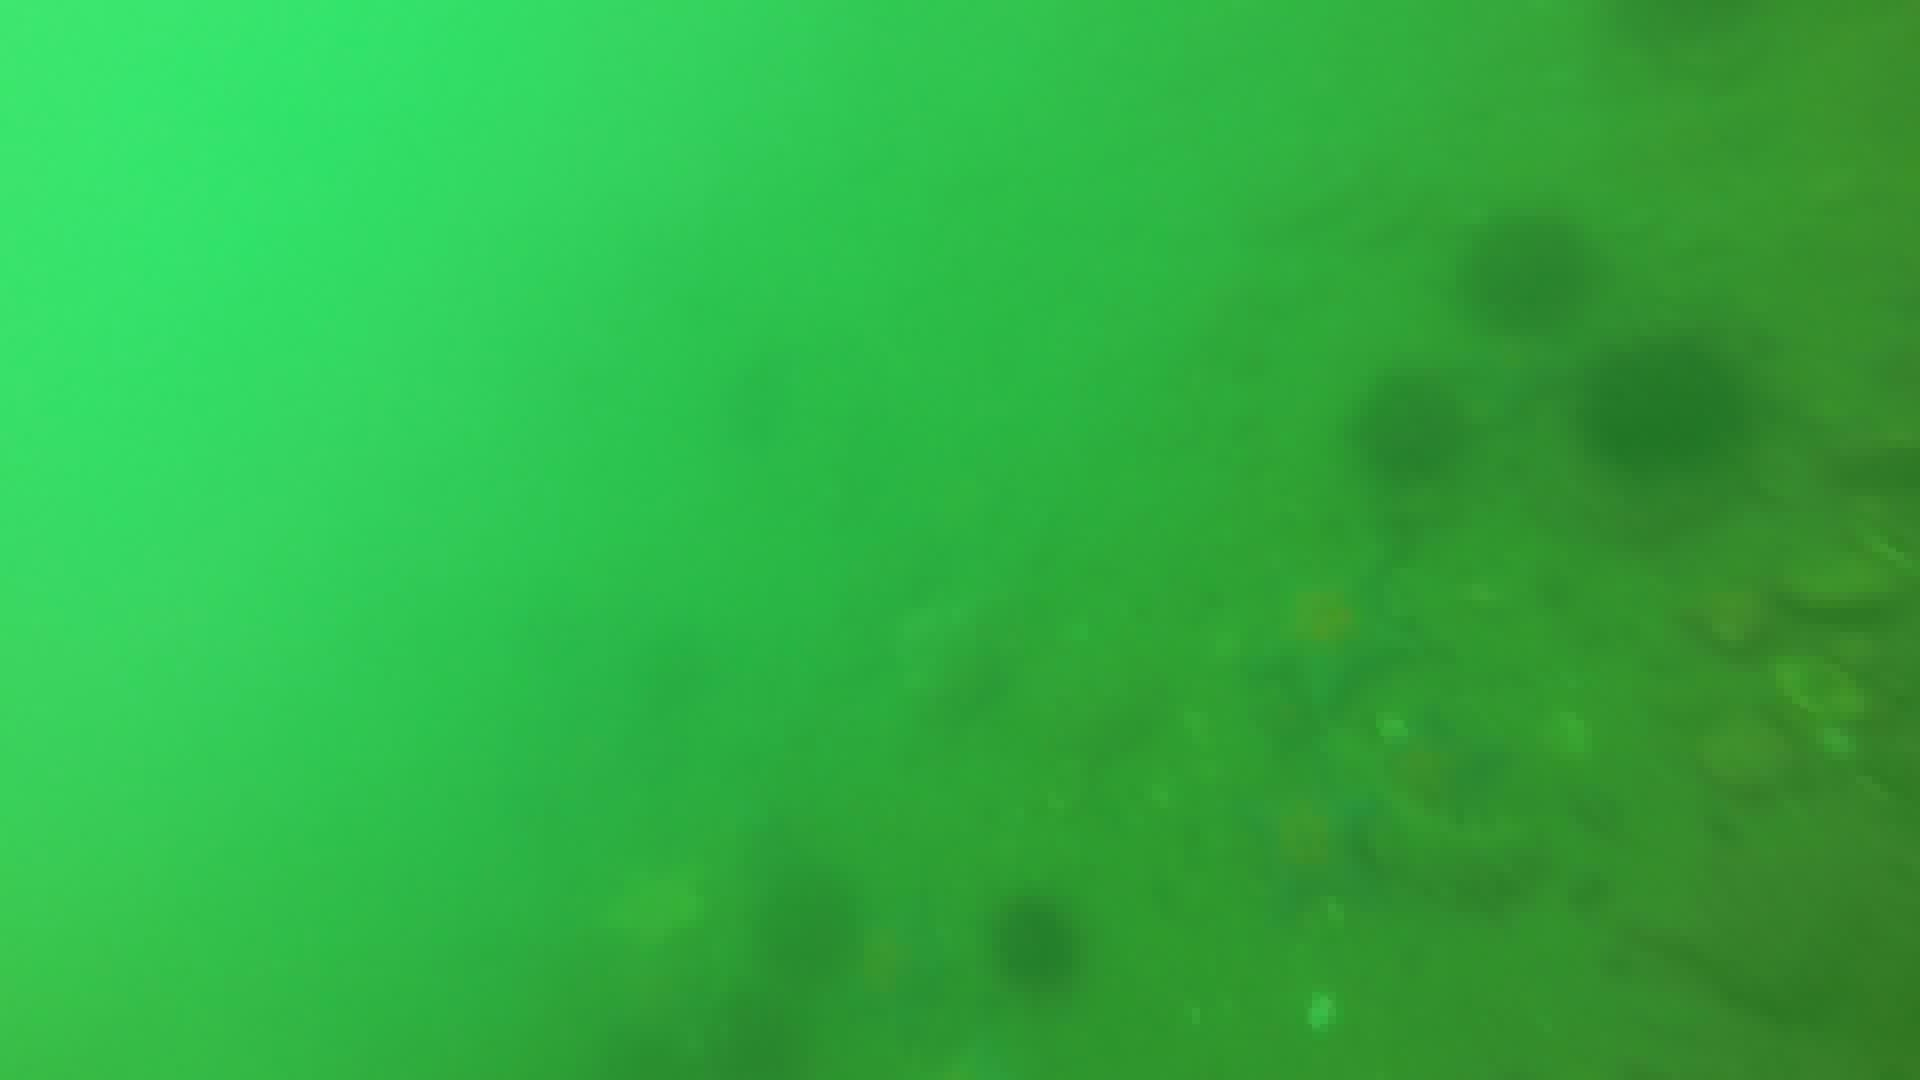echinus: (1575, 330, 1755, 477), (1455, 206, 1600, 335), (1348, 367, 1472, 488), (746, 862, 866, 988), (985, 891, 1088, 998)
holothurian: (1360, 793, 1545, 914)
starfish: (1240, 556, 1422, 725), (1229, 774, 1385, 920), (1379, 707, 1516, 825), (833, 899, 957, 1025), (582, 855, 713, 967)
